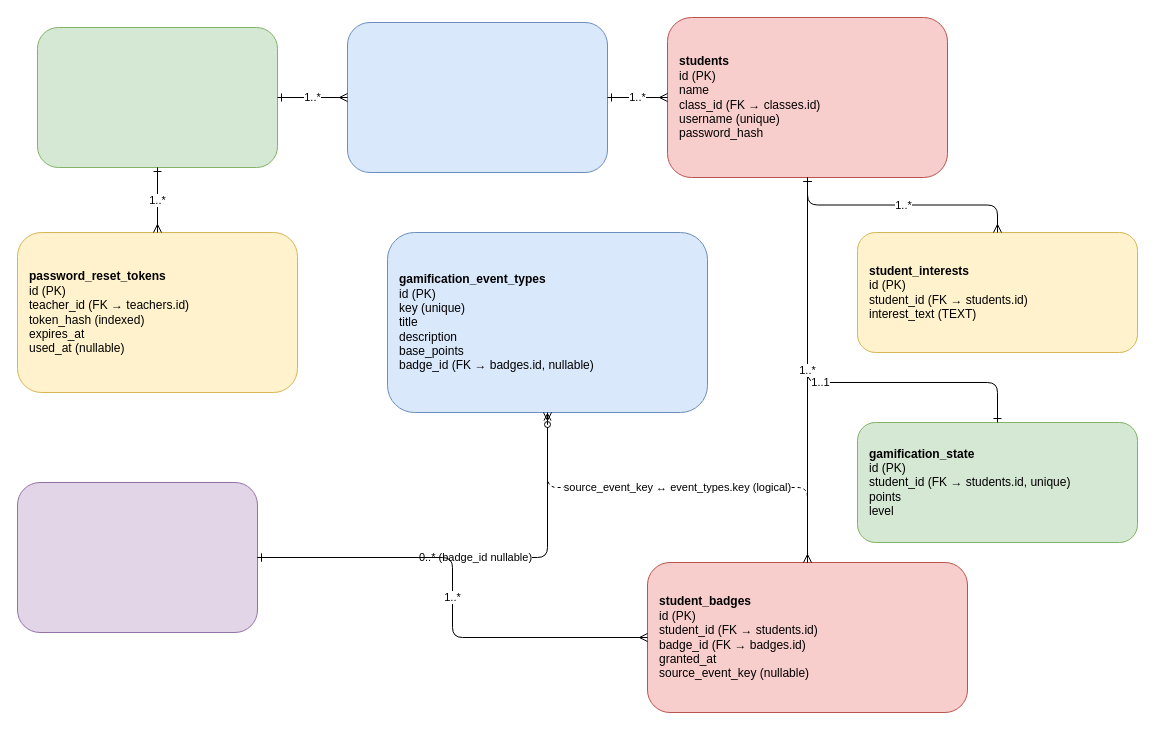
This 1155x730 diagram has some shape labels left out. The shapes that lost their labels are listed below. From the top down, each one's centre as x and y in pixels, then its label:
At pixel 157 97: "teachers id (PK) name email (unique) password_hash".
At pixel 477 97: "classes id (PK) name teacher_id (FK → teachers.id) grade_level subject".
At pixel 137 557: "badges id (PK) key (unique) title description icon".
